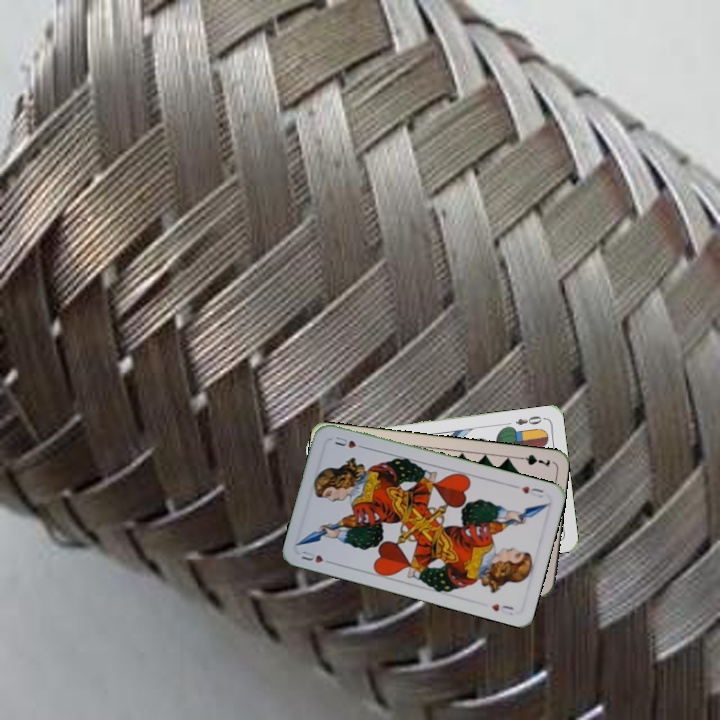EO: (511, 412, 547, 428)
G7: (513, 450, 553, 470)
HU: (297, 547, 336, 567), (518, 482, 546, 500)
